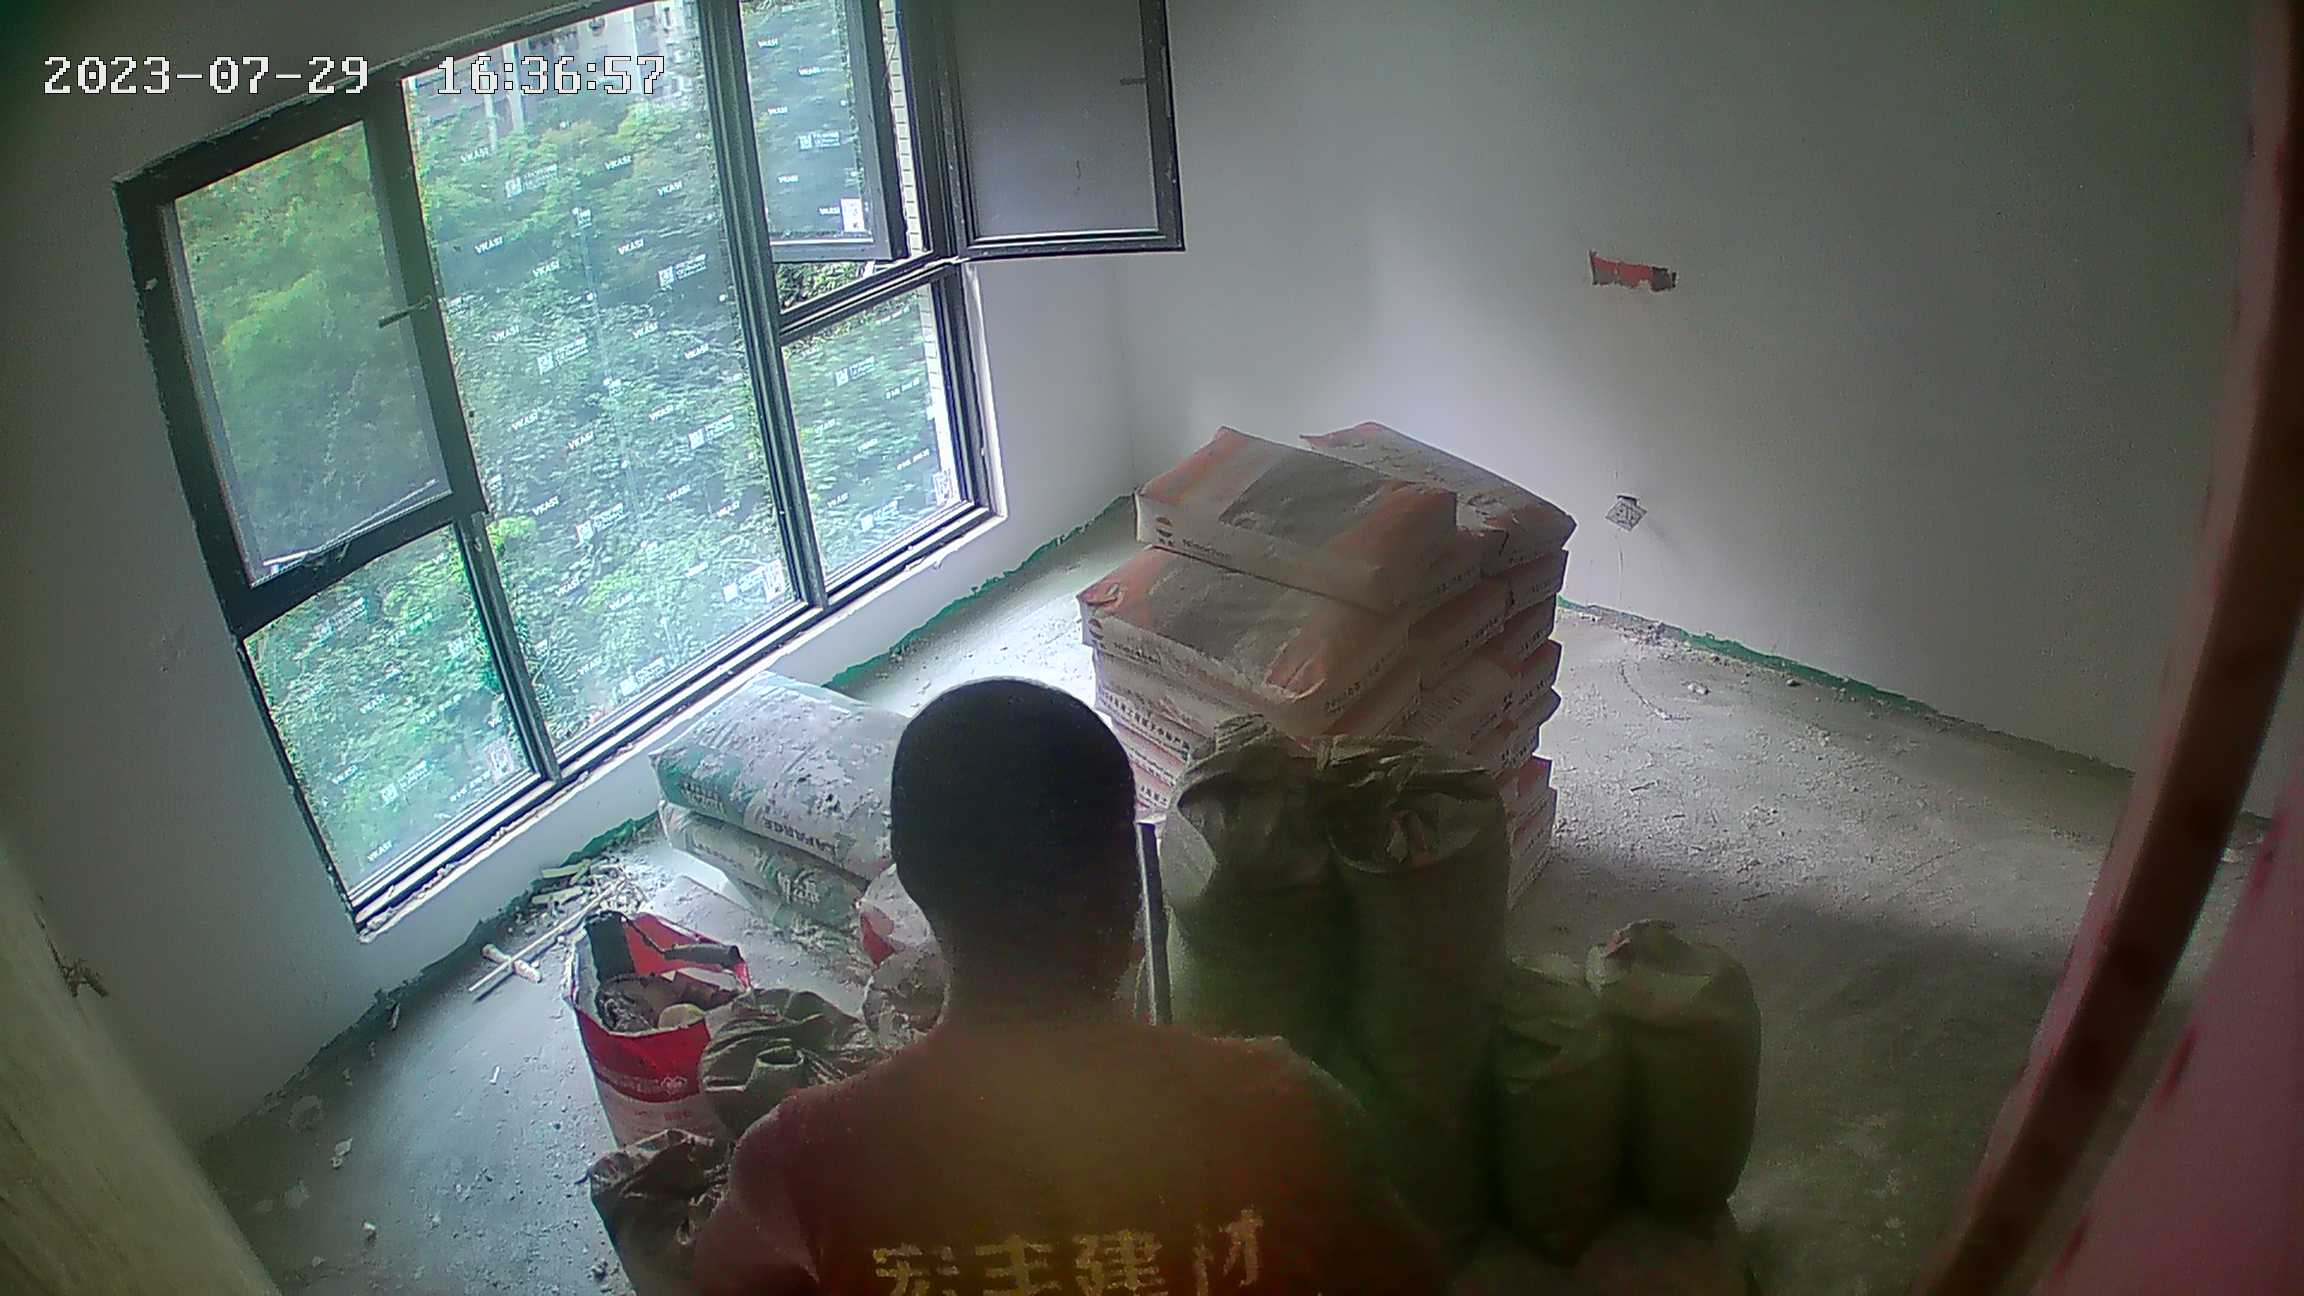people: (677, 688, 1458, 1296)
window: (171, 1, 984, 737)
